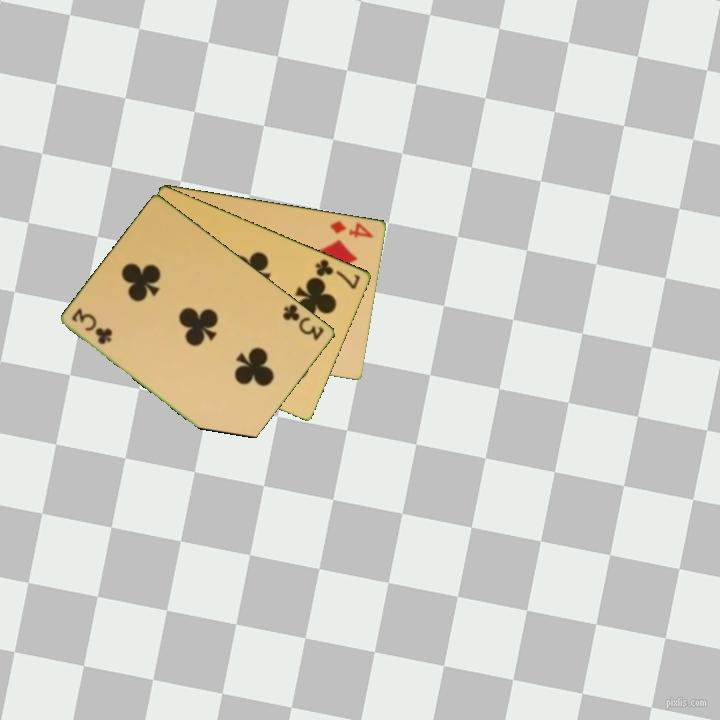3c: (279, 300, 327, 344), (68, 305, 116, 347)
4d: (327, 217, 376, 240)
7c: (312, 255, 363, 292)
